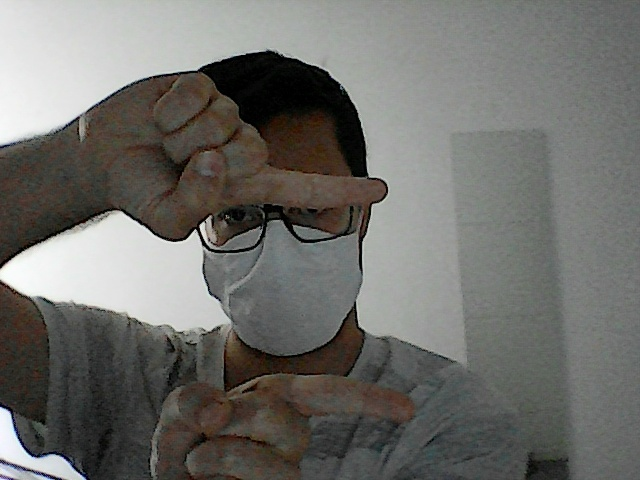left: (102, 66, 392, 245), (135, 368, 422, 480)
